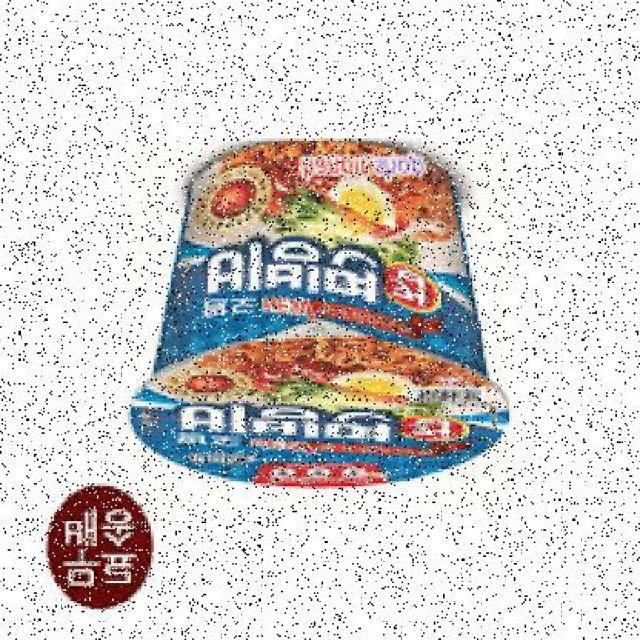Miscellaneous: (125, 132, 508, 491)
